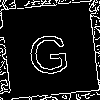G: (25, 25, 71, 76)
